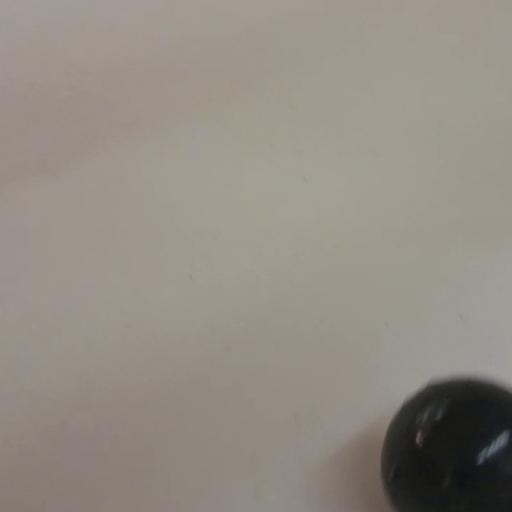dead: (379, 373, 511, 508)
